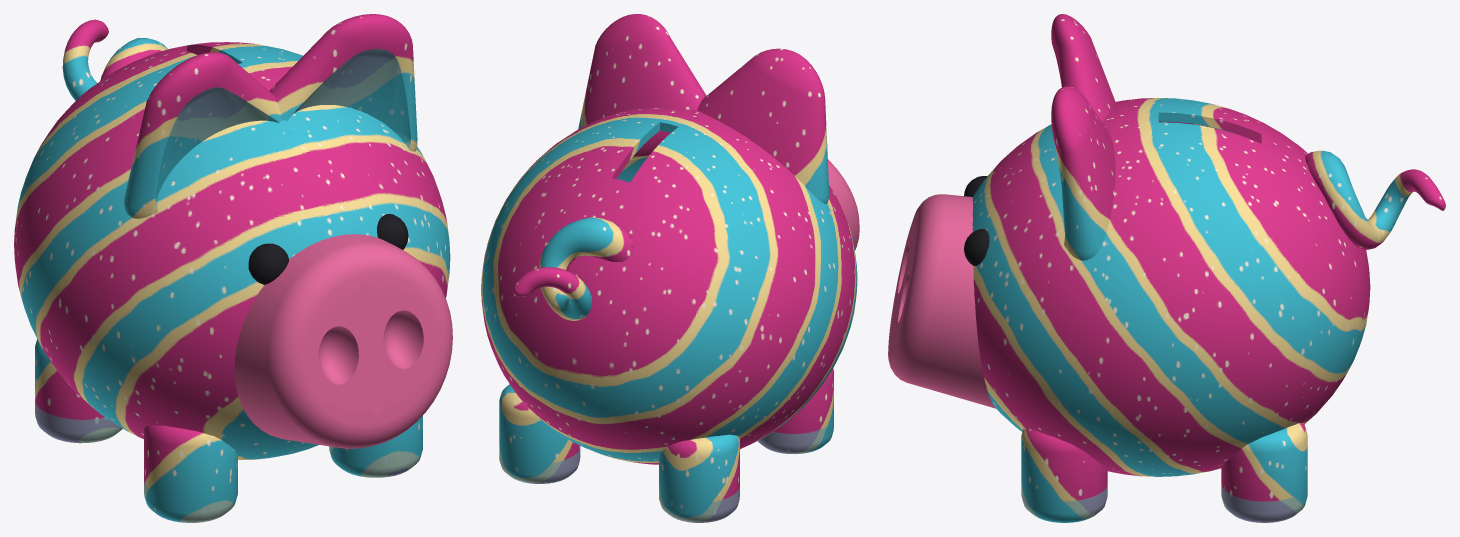
Rendered from sugarrush-og-v1-complete.fbx.
The picture shows the model from 3 angles, left to right: view 1: azimuth 30°, elevation 25°; view 2: azimuth 150°, elevation 25°; view 3: azimuth 270°, elevation 25°; orthographic projection. The views are drawn at different scales.
Visible parts, largest first — view 1: Body, Snout, Ears, Legs, Tail, EyePreview; view 2: Body, Ears, Legs, Tail, Snout; view 3: Body, Snout, Legs, Ears, Tail, EyePreview.
Part boxes in pixels (x1,y1,x2,y2): Body: [14, 42, 450, 459]; Snout: [234, 234, 452, 448]; Ears: [124, 14, 417, 218]; Legs: [35, 339, 422, 522]; Tail: [62, 19, 167, 100]; EyePreview: [248, 214, 408, 284]; Body: [481, 107, 857, 464]; Ears: [578, 14, 829, 203]; Legs: [499, 368, 833, 522]; Tail: [513, 217, 634, 321]; Snout: [828, 159, 859, 250]; Body: [972, 97, 1370, 476]; Snout: [888, 194, 996, 408]; Legs: [1021, 422, 1307, 522]; Ears: [1051, 14, 1115, 260]; Tail: [1305, 150, 1445, 249]; EyePreview: [964, 176, 989, 265].
Size of the model in its own units: 1200 by 1397 by 1708.
Materials: 3 (2 with a texture image).
